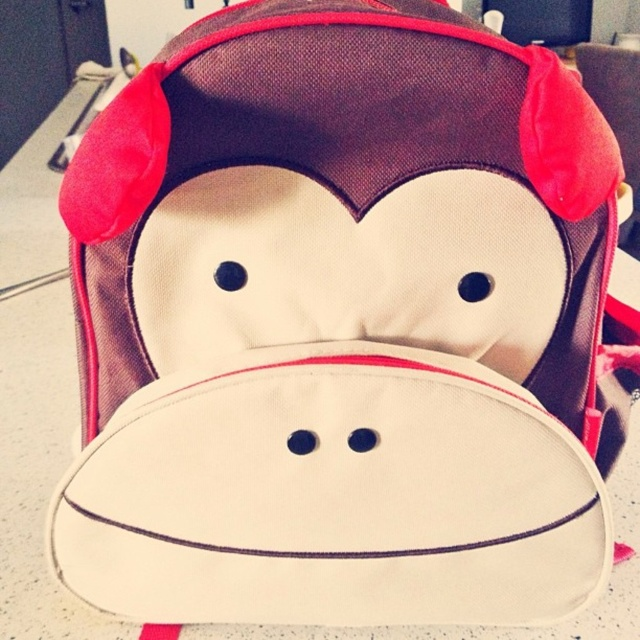Monkey: (46, 0, 617, 630)
